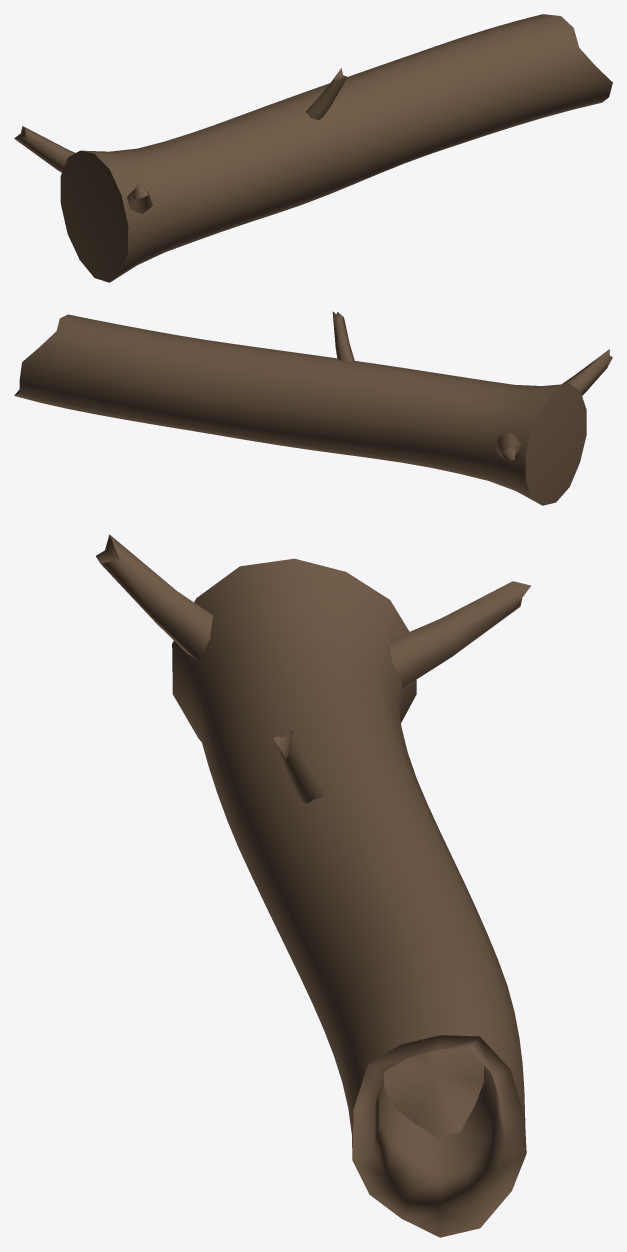
The model's file is log_fallen_c.glb.
3 renders of one model, top to bottom at view 1: azimuth 30°, elevation 25°; view 2: azimuth 150°, elevation 25°; view 3: azimuth 270°, elevation 25°, orthographic. The views are drawn at different scales.
Visible parts, largest first — view 1: log_fallen_c_lod0; view 2: log_fallen_c_lod0; view 3: log_fallen_c_lod0.
Part boxes in pixels (bbox=[...]): log_fallen_c_lod0: bbox=[14, 14, 612, 282]; log_fallen_c_lod0: bbox=[14, 311, 612, 505]; log_fallen_c_lod0: bbox=[96, 534, 530, 1237].
Size of what is drawn, in the model's own units: 3.24 by 0.8233 by 1.19.
